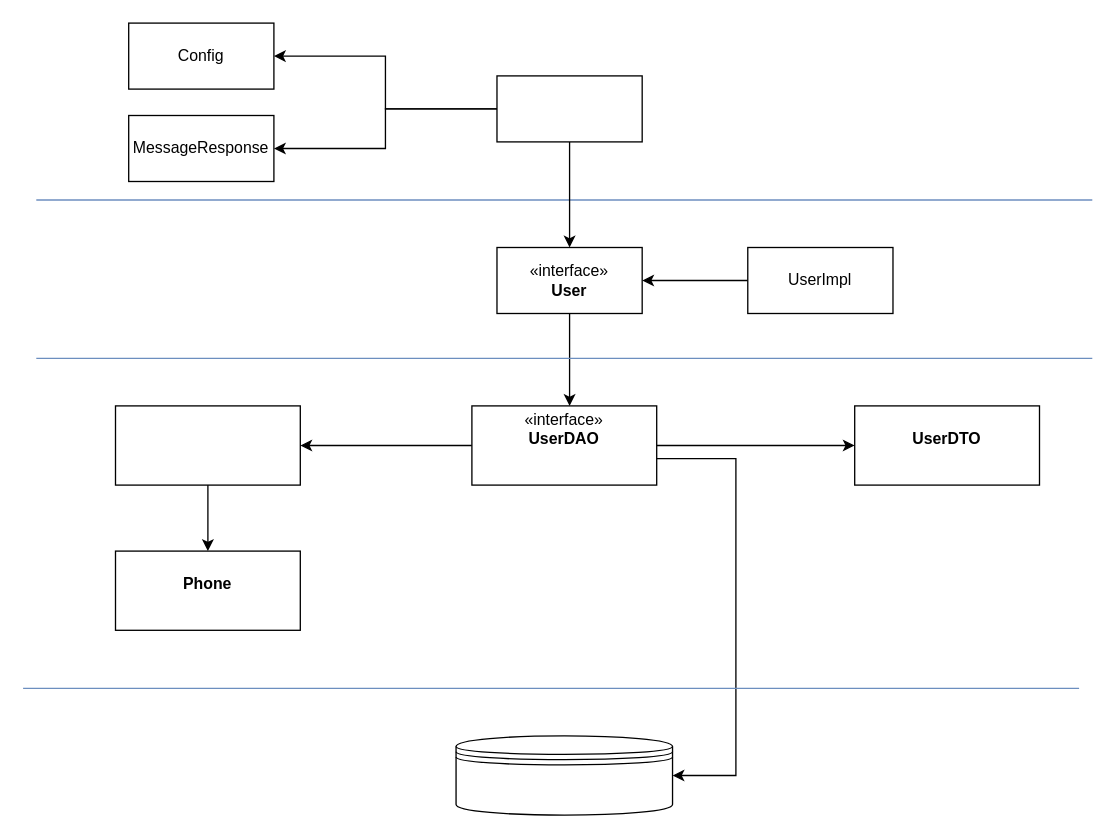
Some shapes in this 1115 by 838 pixel diagram are drawn without their labels. The shapes that lost their labels are listed below. From the top down, each one's centre as x and y in pixels, then its label:
(569,108): UserController
(207,445): User
(564,775): M2
